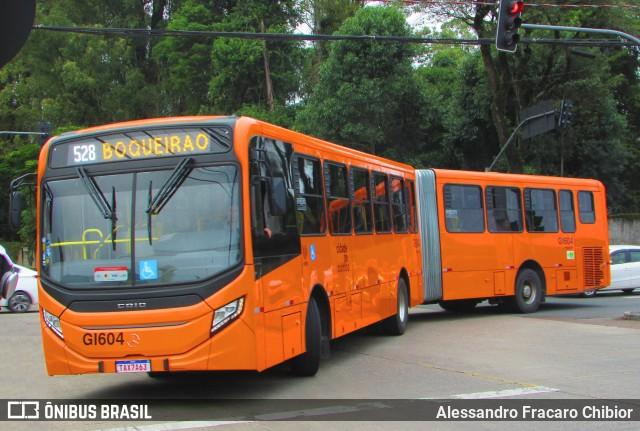BOQUEIRAO: (98, 128, 213, 162)
